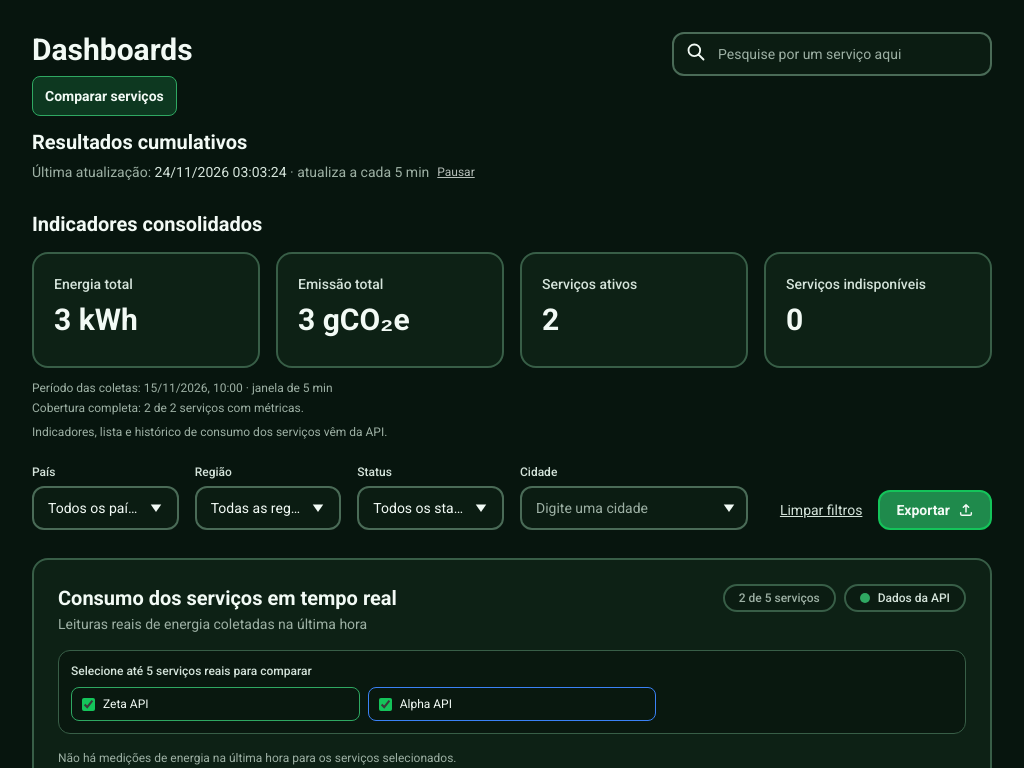
Test case: DashboardPage — ranking e comparação › permite remover um serviço da comparação
Click the checkbox labelled "Zeta API": point(88, 704) [82,698,95,710]
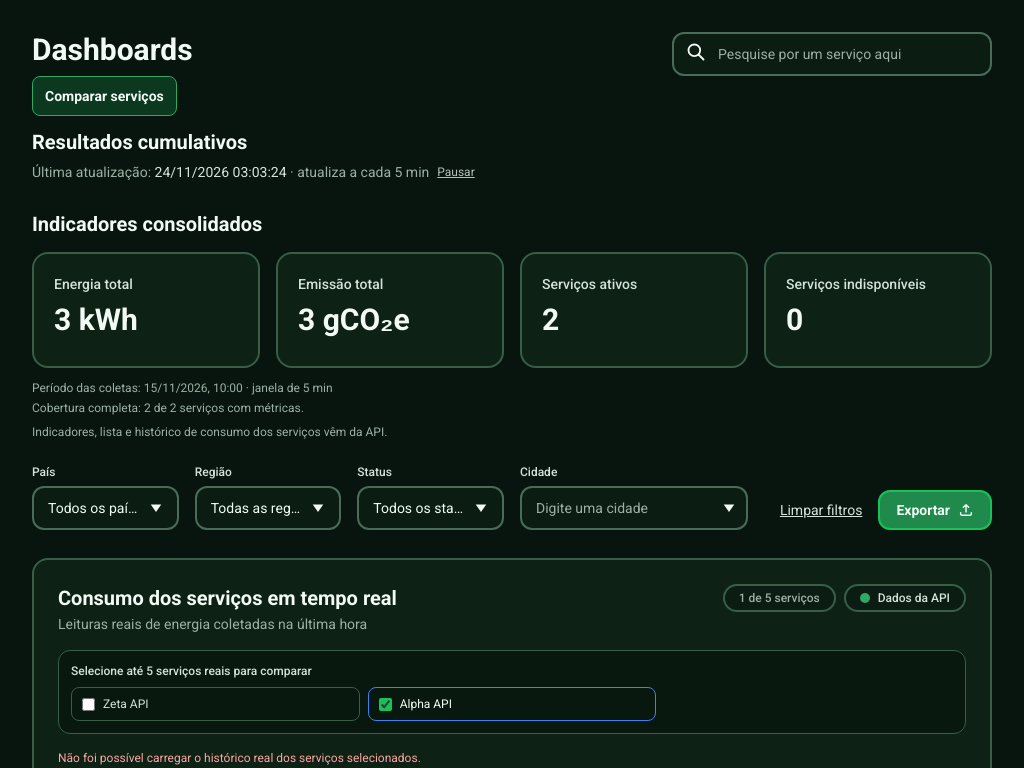
Expected: the text "1 de 5 serviços" is shown, [723,584,836,612]
